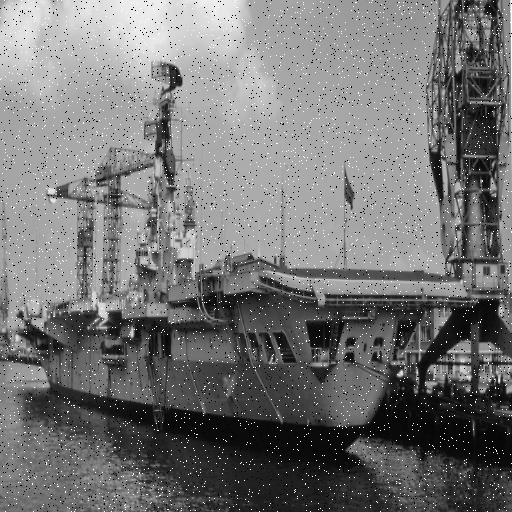Portanaves: (16, 53, 481, 460)
